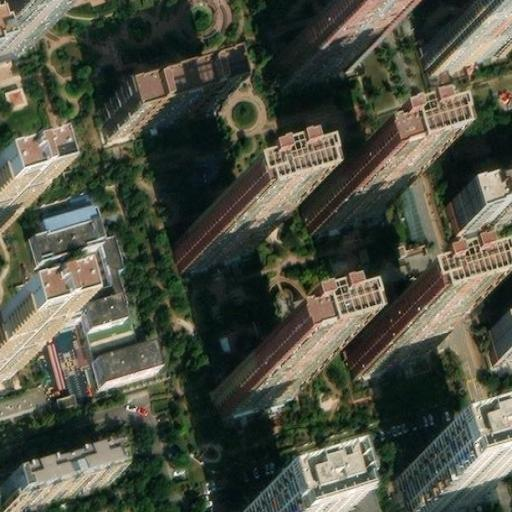building: (31, 201, 136, 339), (101, 72, 218, 133), (4, 444, 113, 498), (306, 162, 396, 222), (395, 456, 485, 512), (179, 204, 264, 261), (425, 8, 510, 64), (223, 347, 306, 402), (285, 15, 366, 70), (354, 306, 432, 362), (444, 187, 511, 246), (91, 337, 158, 380), (483, 324, 512, 372), (0, 340, 14, 375)
